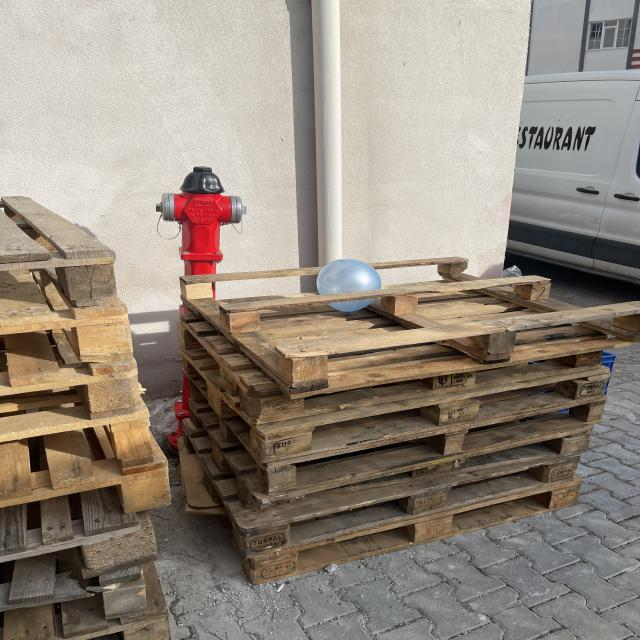balloon: (317, 259, 381, 294), (329, 299, 373, 313)
